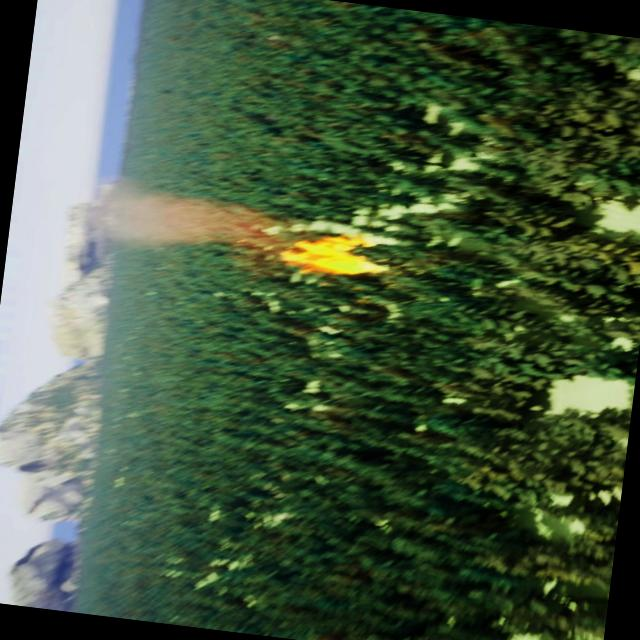fire: (274, 226, 361, 279)
smoke: (68, 175, 278, 263)
